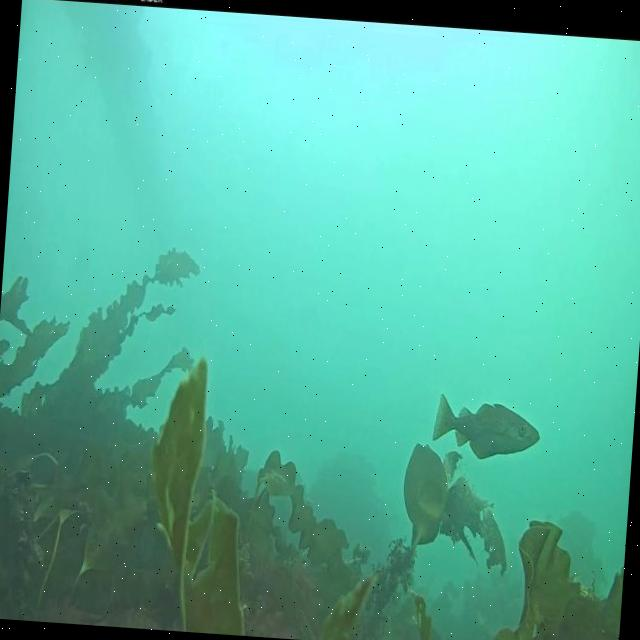fish: (430, 392, 541, 460)
